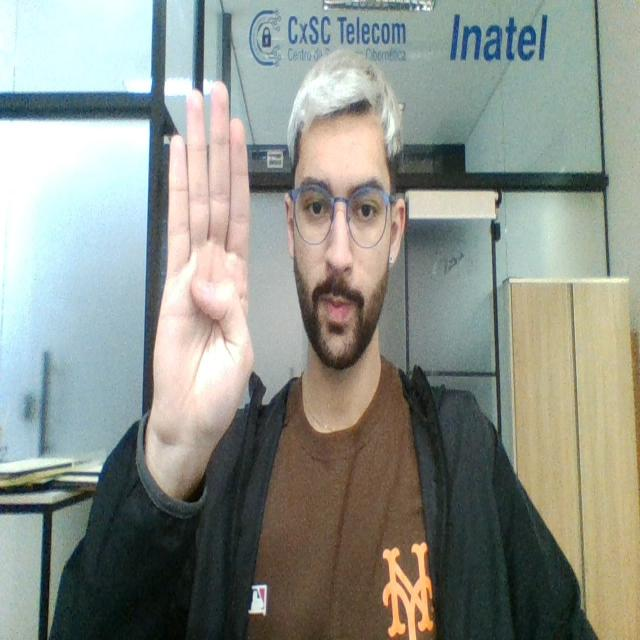B: (156, 71, 256, 452)
